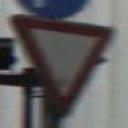preferencia: (12, 12, 118, 118)
